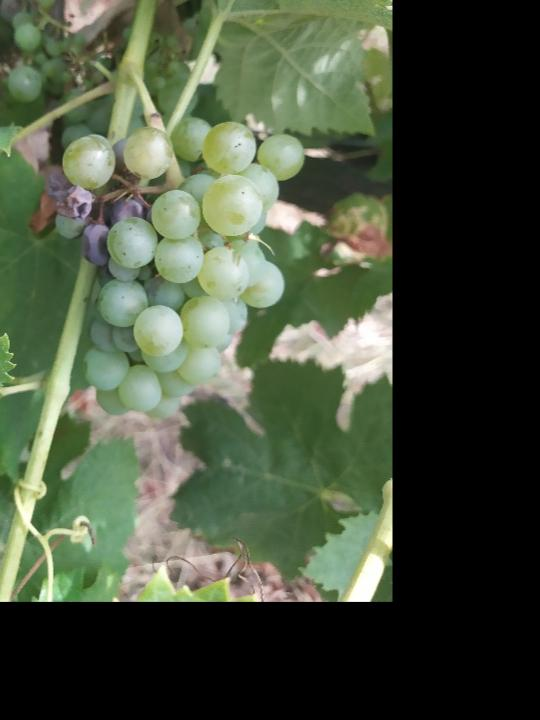grape: (45, 114, 307, 421)
